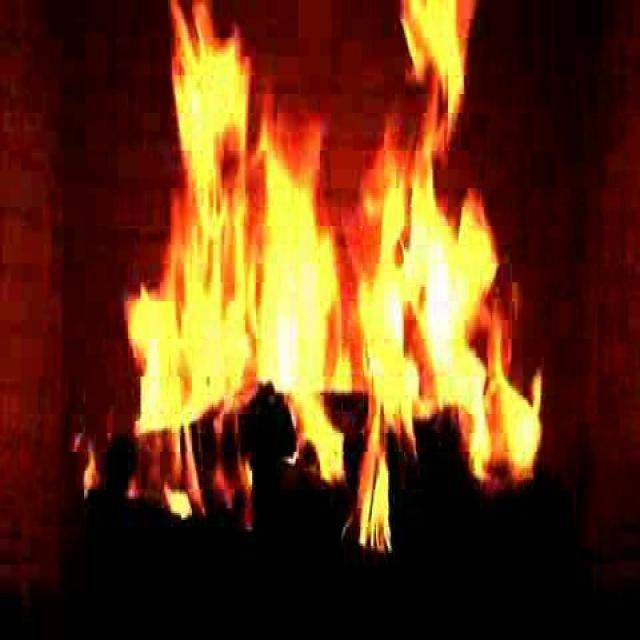Fire: (123, 12, 526, 534)
